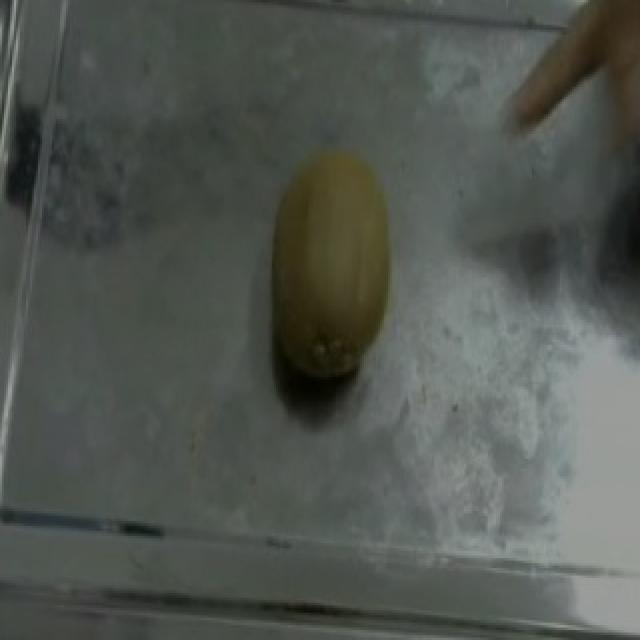Fruit: (240, 139, 418, 407)
